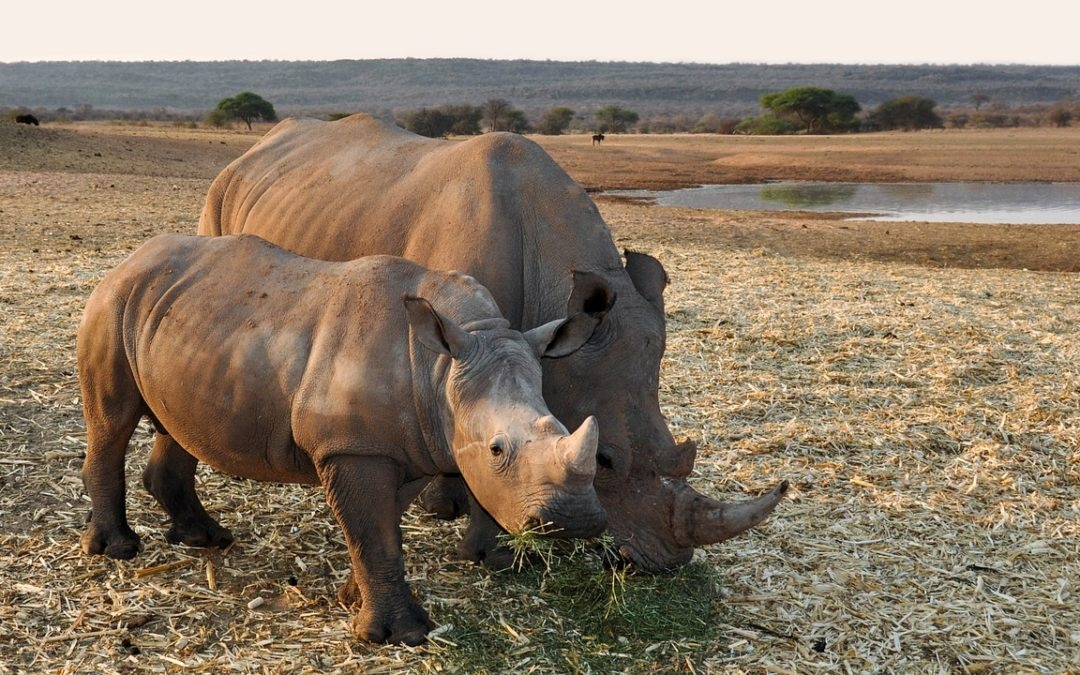rhino: (196, 108, 793, 575), (74, 231, 609, 646)
